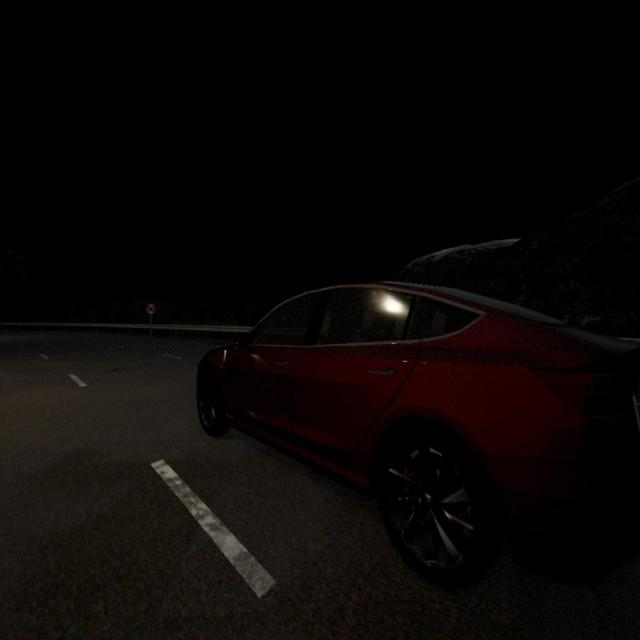Traffic_Signs: (145, 304, 156, 315)
Vehicle: (196, 283, 640, 584)
